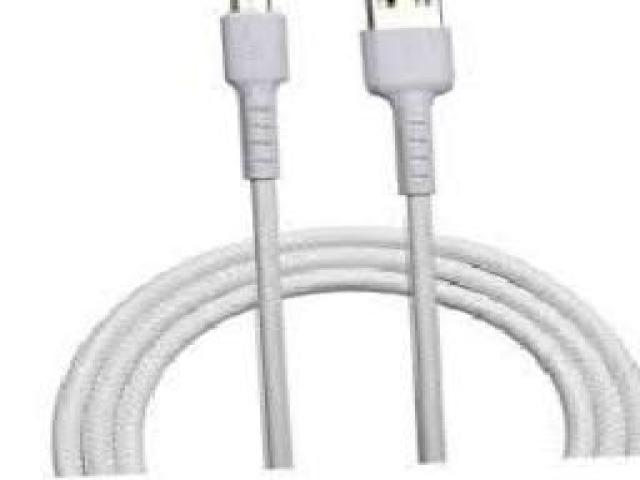wire: (52, 0, 640, 476)
